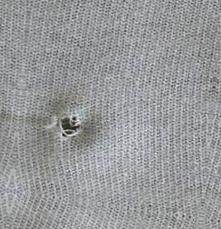hole: (54, 110, 85, 141)
